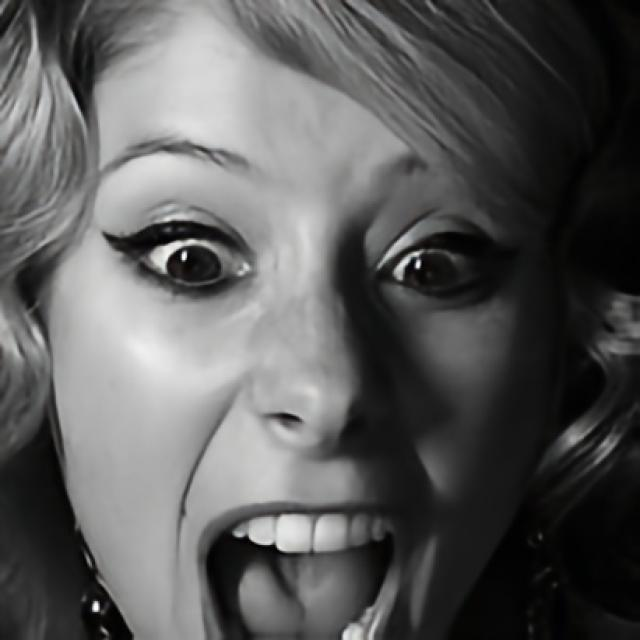fear: (47, 0, 570, 640)
